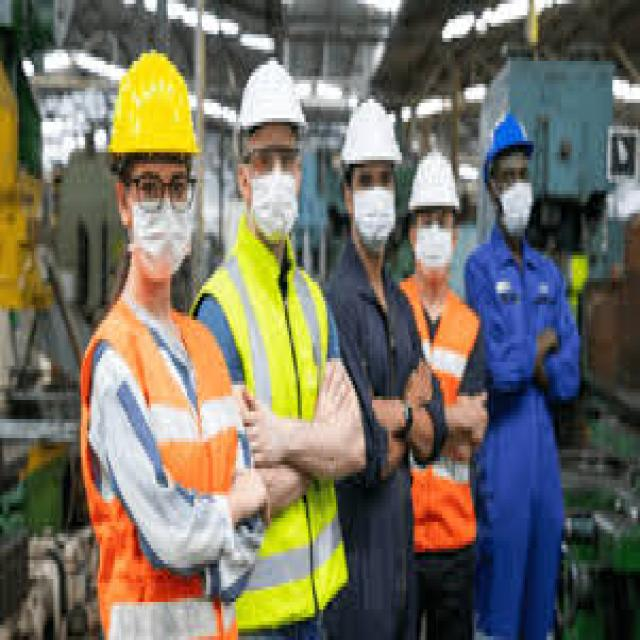Reflective-Jacket: (81, 294, 236, 628), (215, 240, 346, 625), (402, 286, 483, 556)
Safety-Helmet: (104, 46, 202, 168), (234, 53, 306, 141), (336, 92, 402, 172), (408, 145, 462, 217), (480, 106, 536, 164)
